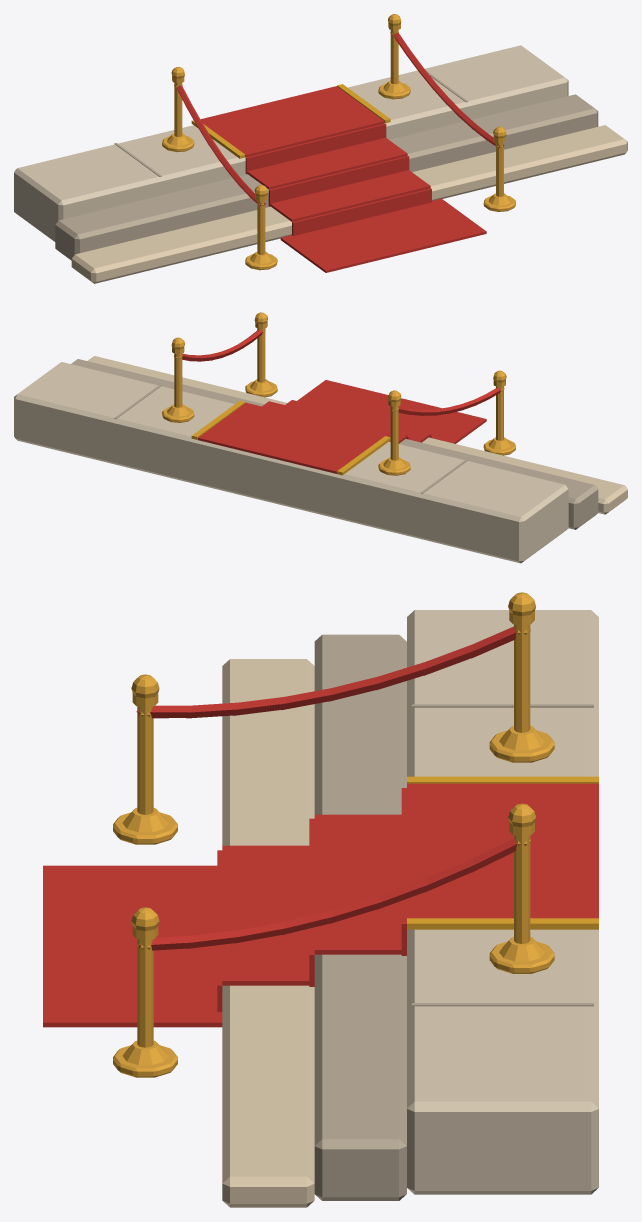
The model's file is cinema_entrance_stair.glb.
The picture shows the model from 3 angles, top to bottom: view 1: azimuth 30°, elevation 25°; view 2: azimuth 150°, elevation 25°; view 3: azimuth 270°, elevation 25°; orthographic projection. The views are drawn at different scales.
Parts seen in each view (by area): view 1: cinema_entrance_stair; view 2: cinema_entrance_stair; view 3: cinema_entrance_stair.
Part boxes in pixels (left/top/right/bottom): cinema_entrance_stair: left=14, top=14, right=627, bottom=283; cinema_entrance_stair: left=14, top=312, right=627, bottom=563; cinema_entrance_stair: left=43, top=592, right=598, bottom=1207.
Size of the model in its own units: 4.84 by 1.07 by 2.17.
